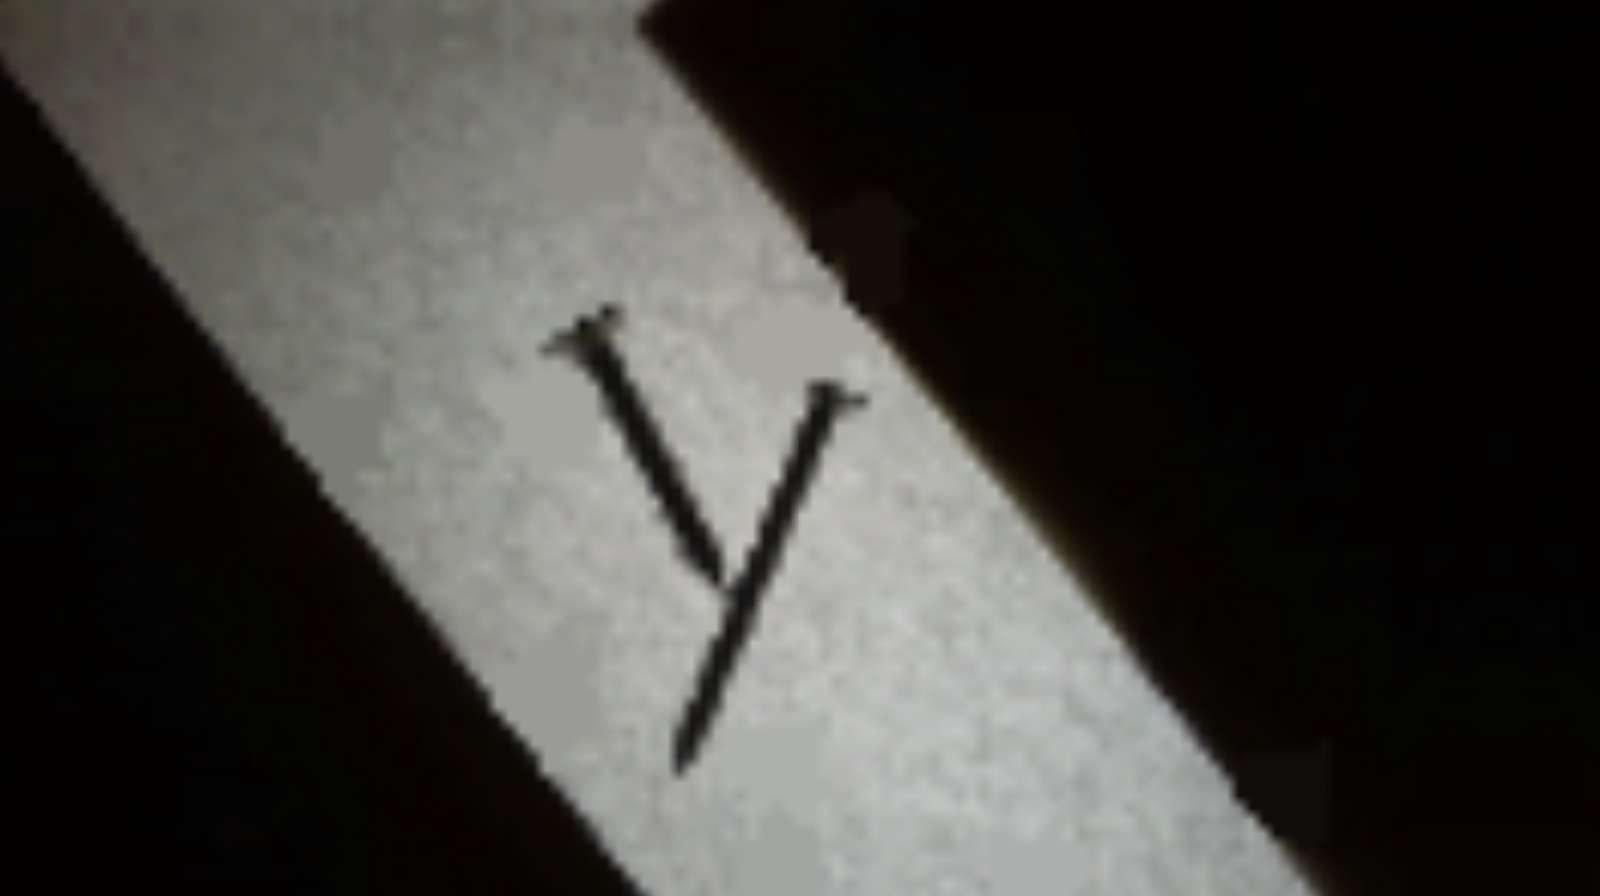S001: (534, 299, 735, 602)
S002: (658, 364, 873, 775)
